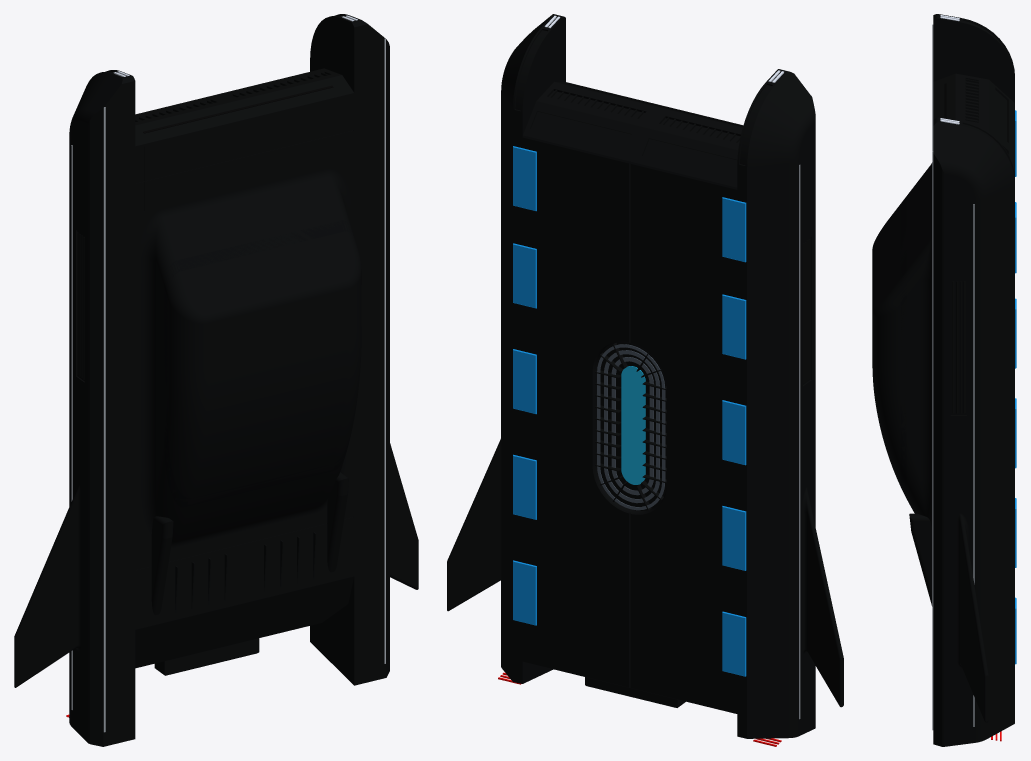
Rendered from neoRC11-2026-10-25T19-43-39.obj.
3 renders of one model, left to right at view 1: azimuth 30°, elevation 25°; view 2: azimuth 150°, elevation 25°; view 3: azimuth 270°, elevation 25°, orthographic. The views are drawn at different scales.
Parts seen in each view (by area): view 1: rc11_hull, rc11_Visor.001, rc11_trim.001, rc11_trim, rc11_Visor, rc11_sill.001; view 2: rc11_hull, rc11_drive_core, rc11_hover_pad.008, rc11_hover_pad.009, rc11_hover_pad.006, rc11_hover_pad.005, rc11_hover_pad.007, rc11_drive_ring_2, rc11_hover_pad.003, rc11_hover_pad.004, rc11_hover_pad.001, rc11_hover_pad (+4 smaller); view 3: rc11_hull, rc11_trim, rc11_sill, rc11_Visor, rc11_louvre.002, rc11_louvre.003, rc11_louvre, rc11_louvre.001.
Boxes of the visible parts, left/top/right/bottom form: rc11_hull: left=14, top=14, right=418, bottom=746; rc11_Visor.001: left=164, top=241, right=261, bottom=507; rc11_trim.001: left=103, top=107, right=105, bottom=732; rc11_trim: left=384, top=38, right=385, bottom=663; rc11_Visor: left=260, top=220, right=353, bottom=488; rc11_sill.001: left=71, top=145, right=72, bottom=709; rc11_hull: left=447, top=14, right=843, bottom=738; rc11_drive_core: left=621, top=366, right=645, bottom=484; rc11_hover_pad.008: left=722, top=294, right=746, bottom=359; rc11_hover_pad.009: left=722, top=197, right=746, bottom=262; rc11_hover_pad.006: left=722, top=611, right=746, bottom=676; rc11_hover_pad.005: left=722, top=400, right=746, bottom=465; rc11_hover_pad.007: left=722, top=506, right=746, bottom=570; rc11_drive_ring_2: left=597, top=344, right=665, bottom=510; rc11_hover_pad.003: left=513, top=243, right=536, bottom=308; rc11_hover_pad.004: left=513, top=146, right=536, bottom=211; rc11_hover_pad.001: left=513, top=560, right=536, bottom=625; rc11_hover_pad: left=513, top=349, right=536, bottom=414; rc11_hull: left=872, top=14, right=1014, bottom=746; rc11_trim: left=932, top=151, right=933, bottom=730; rc11_sill: left=973, top=204, right=974, bottom=726; rc11_Visor: left=900, top=237, right=906, bottom=497; rc11_louvre.002: left=956, top=281, right=958, bottom=413; rc11_louvre.003: left=952, top=281, right=954, bottom=413; rc11_louvre: left=963, top=281, right=965, bottom=413; rc11_louvre.001: left=960, top=281, right=961, bottom=413.
Bounding box in the file's own units: 9809 × 15351 × 3277.
